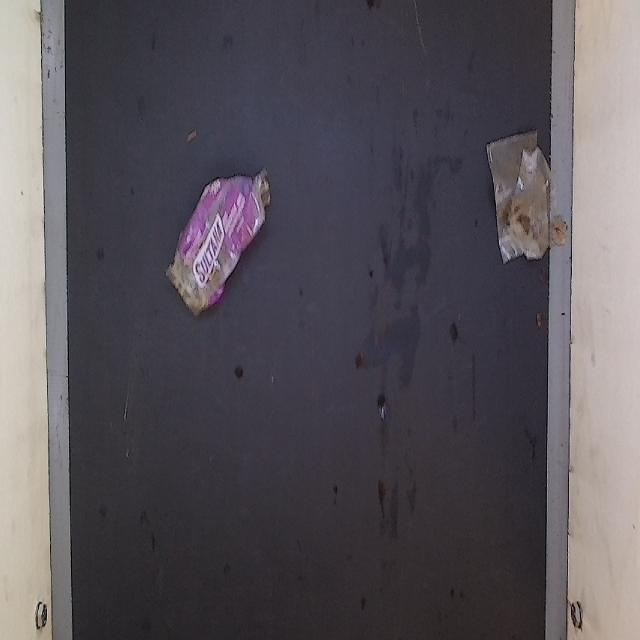food_packaging: (153, 176, 295, 326)
plastic_films: (472, 115, 564, 273)
